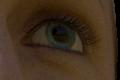eye: (46, 22, 76, 50)
